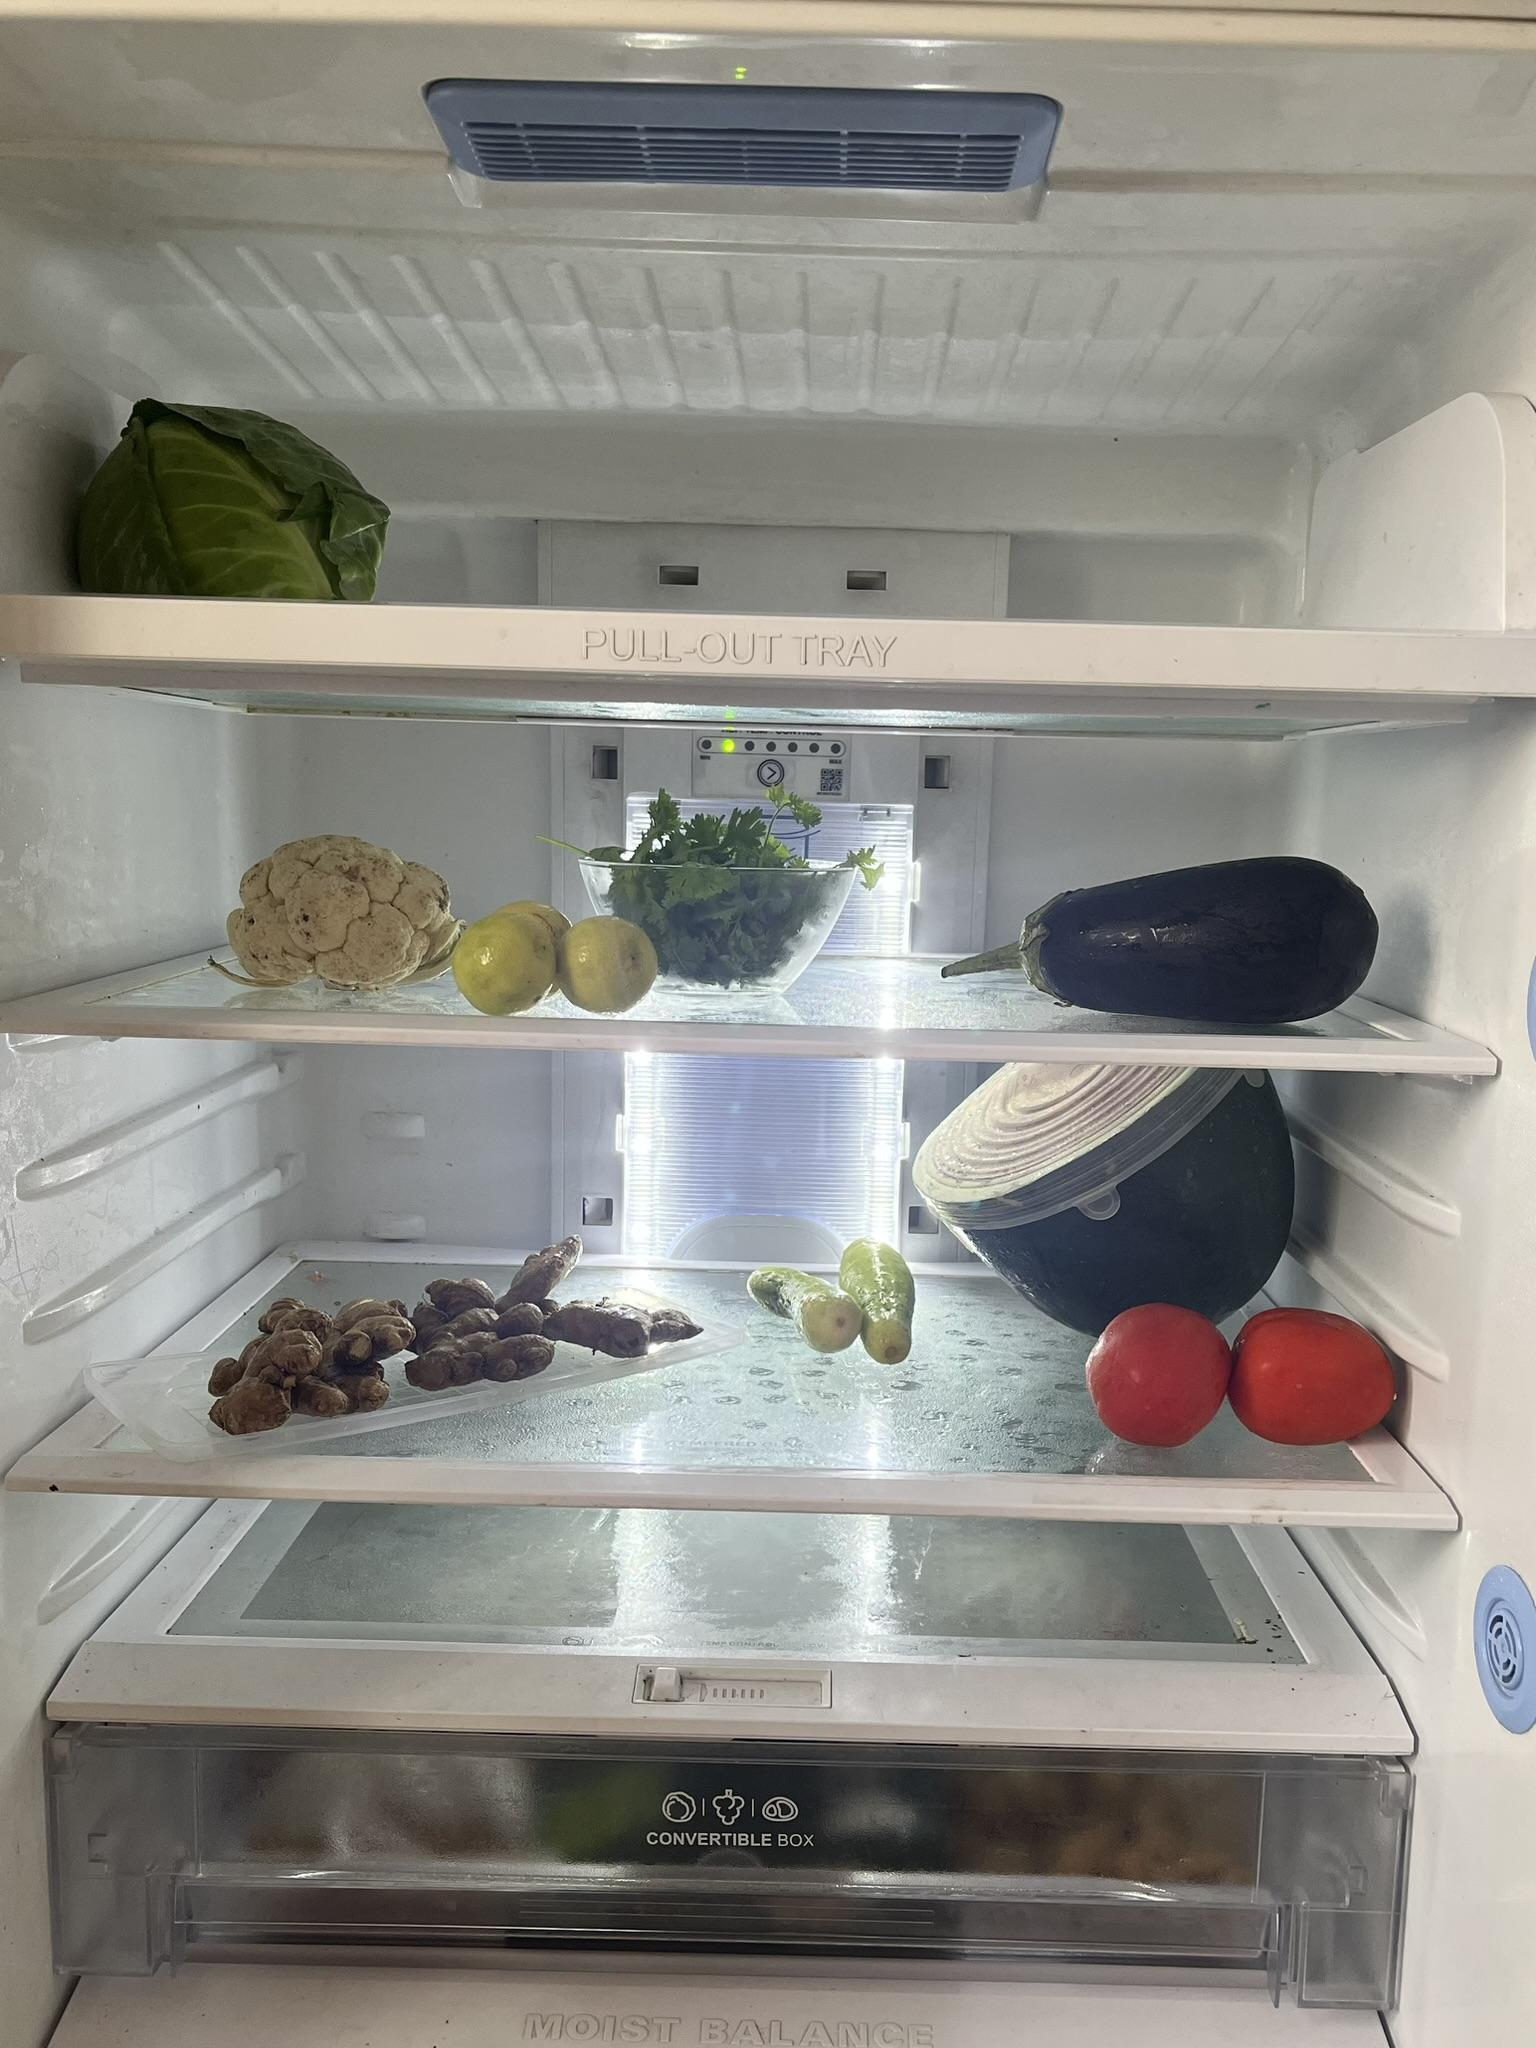bringal: (947, 851, 1381, 1019)
cabbage: (82, 397, 387, 606)
cauliflower: (232, 832, 458, 1000)
coriander: (607, 797, 815, 979)
cucumber: (742, 1232, 915, 1366)
ginger: (208, 1222, 712, 1429)
tomato: (1102, 1301, 1404, 1443)
watermelon: (926, 1061, 1304, 1340)
